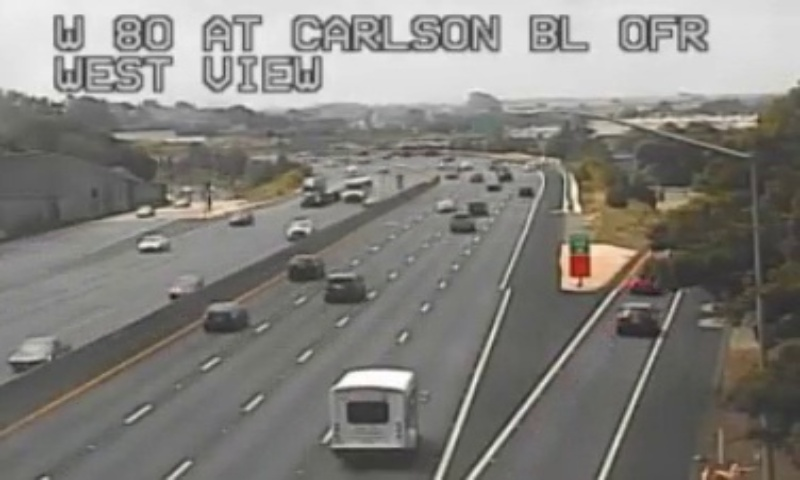bus: (329, 368, 419, 452)
car: (614, 303, 657, 335), (202, 301, 244, 332), (323, 272, 365, 299), (287, 254, 323, 279)
